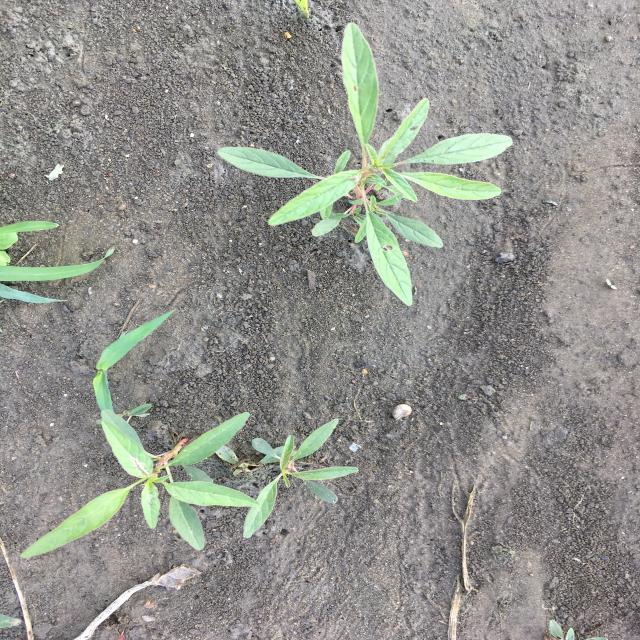Waterhemp: (214, 22, 514, 310), (18, 411, 264, 560), (241, 417, 361, 540)
